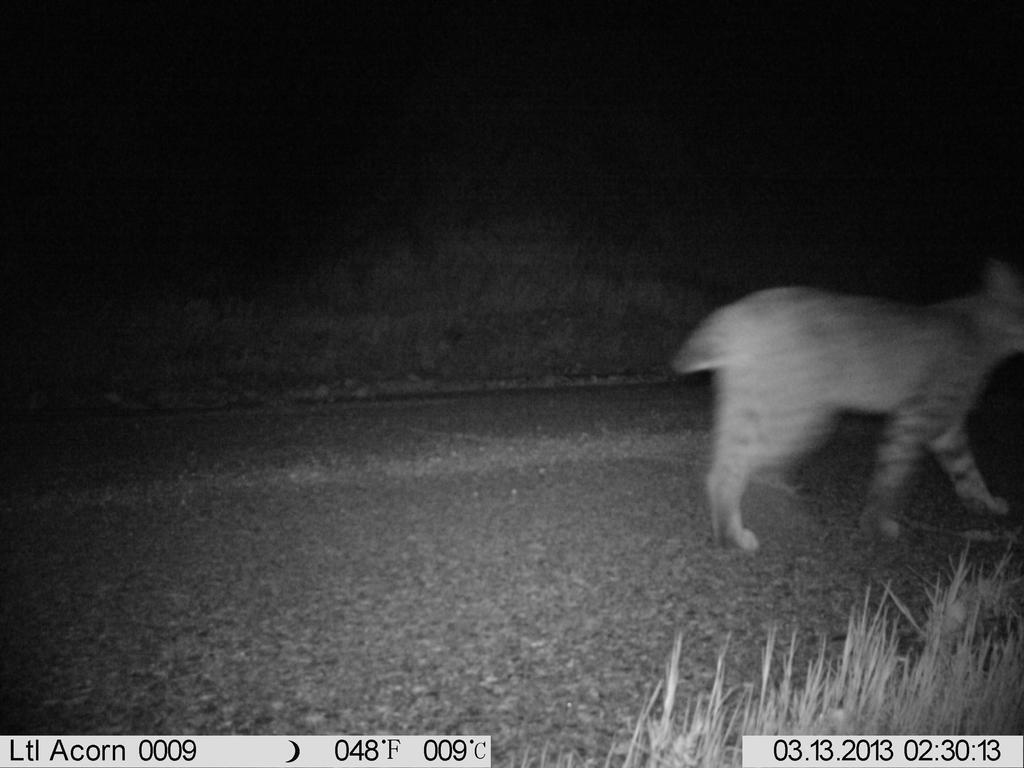bobcat: (673, 281, 1023, 556)
